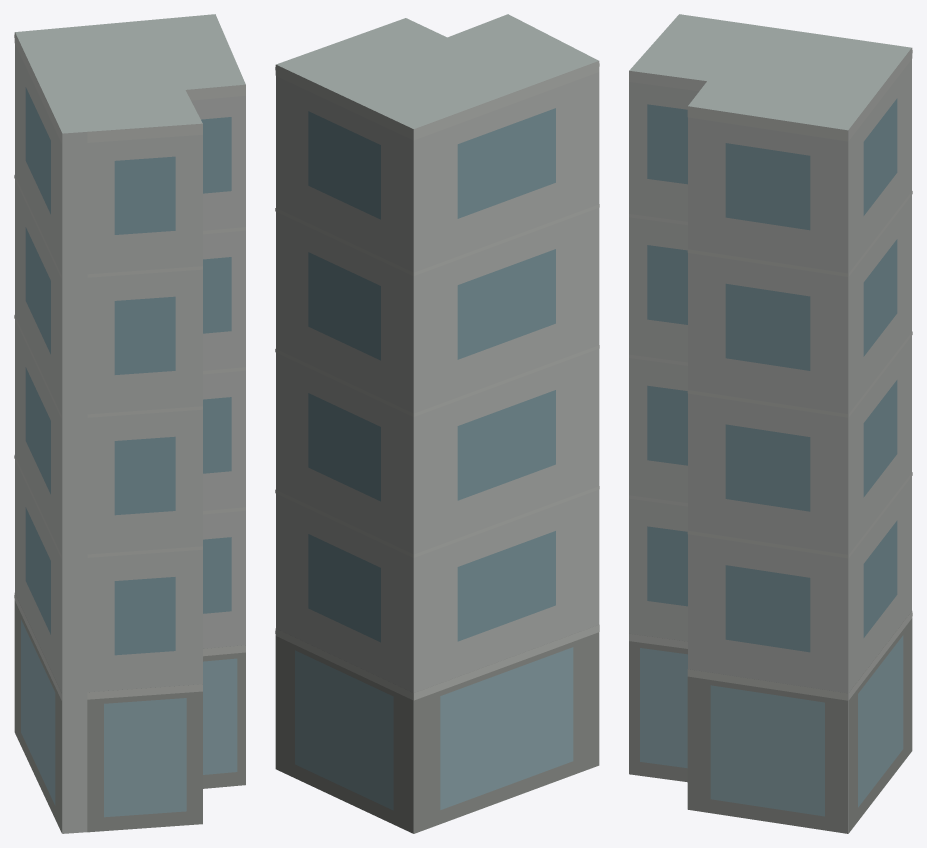
The model's file is survey-upis-32818611.glb.
3 renders of one model, left to right at view 1: azimuth 30°, elevation 25°; view 2: azimuth 150°, elevation 25°; view 3: azimuth 270°, elevation 25°, orthographic.
Visible parts, largest first — view 1: survey-upis-32818611.tmp; view 2: survey-upis-32818611.tmp; view 3: survey-upis-32818611.tmp.
Boxes of the visible parts, x1,y1,x2,y2 form: survey-upis-32818611.tmp: (14, 14, 245, 833); survey-upis-32818611.tmp: (275, 14, 599, 833); survey-upis-32818611.tmp: (629, 14, 912, 833).
Size of the model in its own units: 5.43 by 15.25 by 5.58.
